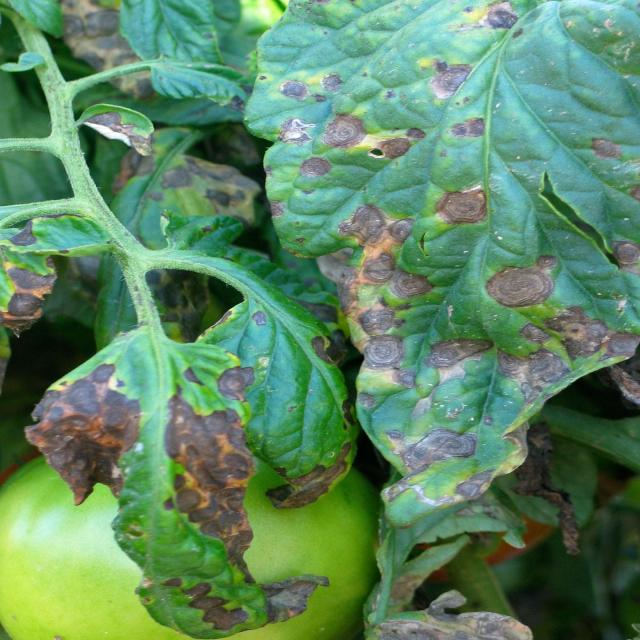Early Blight: (241, 8, 618, 517), (34, 328, 250, 632), (199, 296, 352, 512)
